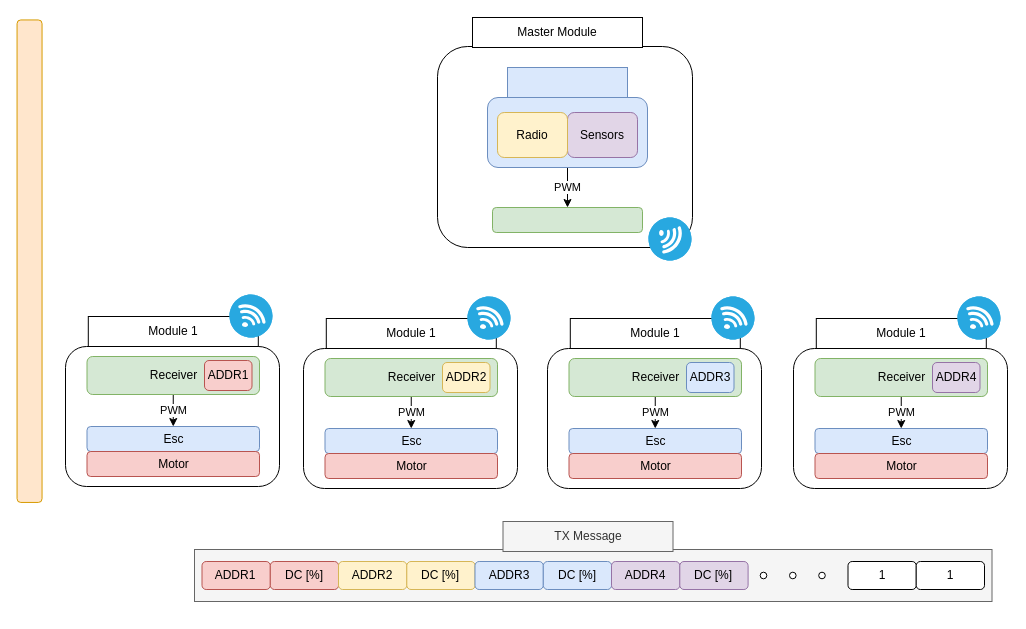
The diagram is 1026 pixels wide and 629 high, and some of its shapes have lost their labels. Each missing label, with the centre of its shape:
"Battery" goes at [29,260].
"Flght Controller" goes at [567,82].
"Transmitter" goes at [567,219].
